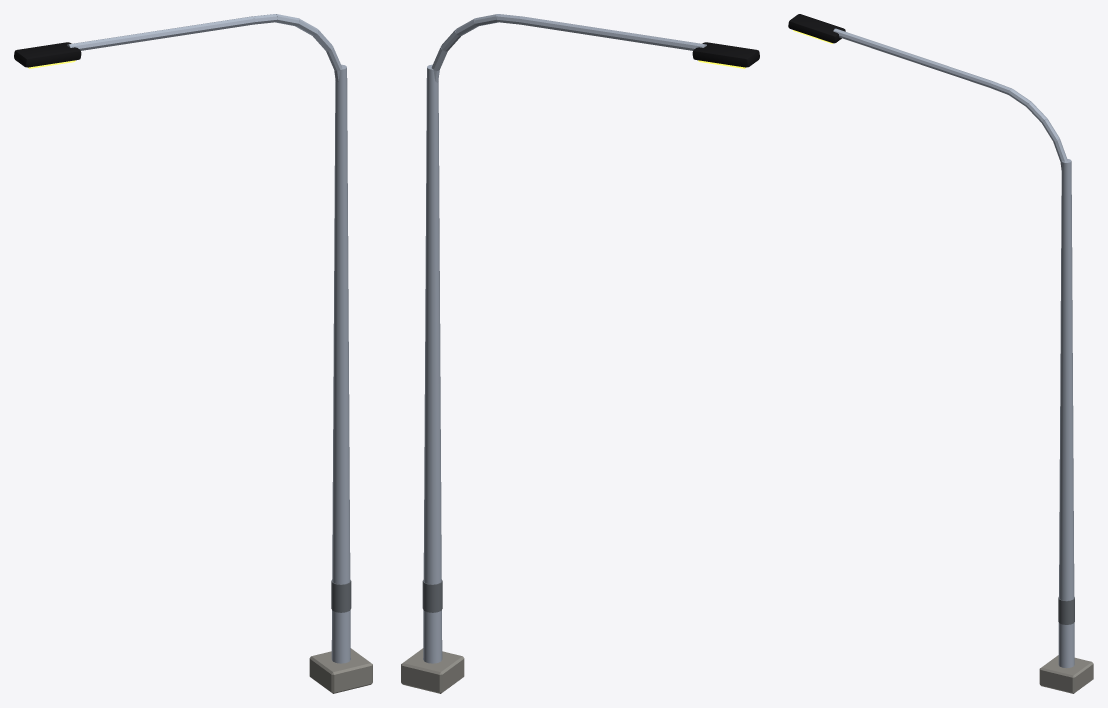
The model's file is lamp_arc.glb.
The picture shows the model from 3 angles, left to right: view 1: azimuth 30°, elevation 25°; view 2: azimuth 150°, elevation 25°; view 3: azimuth 330°, elevation 25°; orthographic projection. The views are drawn at different scales.
Visible parts, largest first — view 1: steel, concrete, plastic_black, steel_dark; view 2: steel, concrete, plastic_black, steel_dark; view 3: steel, concrete, plastic_black.
Part boxes in pixels (bbox=[...]): steel: bbox=[67, 14, 350, 663]; concrete: bbox=[309, 648, 372, 693]; plastic_black: bbox=[14, 42, 81, 67]; steel_dark: bbox=[331, 579, 351, 612]; steel: bbox=[423, 14, 706, 663]; concrete: bbox=[401, 648, 464, 693]; plastic_black: bbox=[692, 42, 759, 67]; steel_dark: bbox=[422, 579, 442, 612]; steel: bbox=[833, 28, 1074, 668]; concrete: bbox=[1039, 655, 1093, 693]; plastic_black: bbox=[788, 14, 845, 43].
Bounding box in the file's own units: 5.78 × 11.36 × 0.7.
